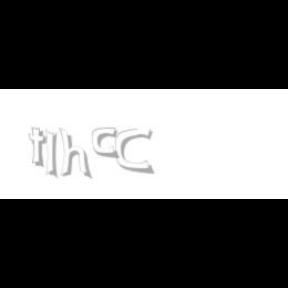C: (116, 128, 152, 174)
I: (46, 128, 58, 180)
c: (92, 128, 120, 160)
h: (58, 128, 94, 180)
t: (29, 128, 51, 168)
